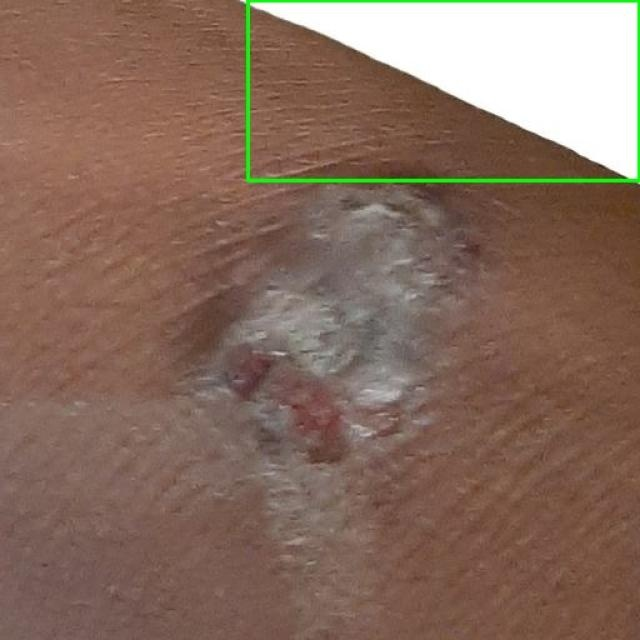Contact Dermatitis: (248, 0, 639, 180)
